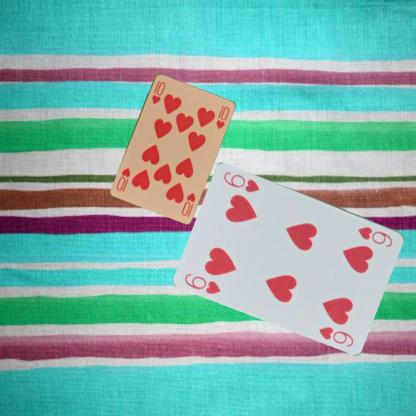10h: (178, 190, 196, 216), (149, 78, 166, 105)
6h: (182, 271, 222, 296), (355, 224, 394, 248)
